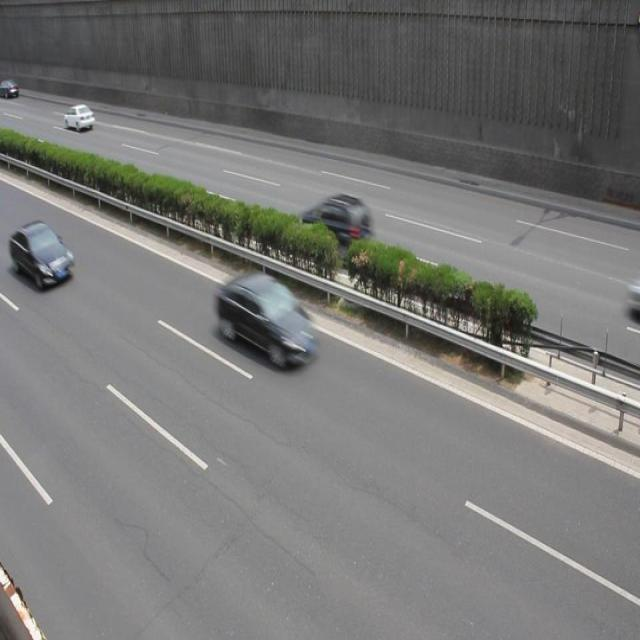car: (214, 269, 321, 369), (294, 190, 376, 266), (9, 220, 76, 291), (64, 100, 95, 132)
